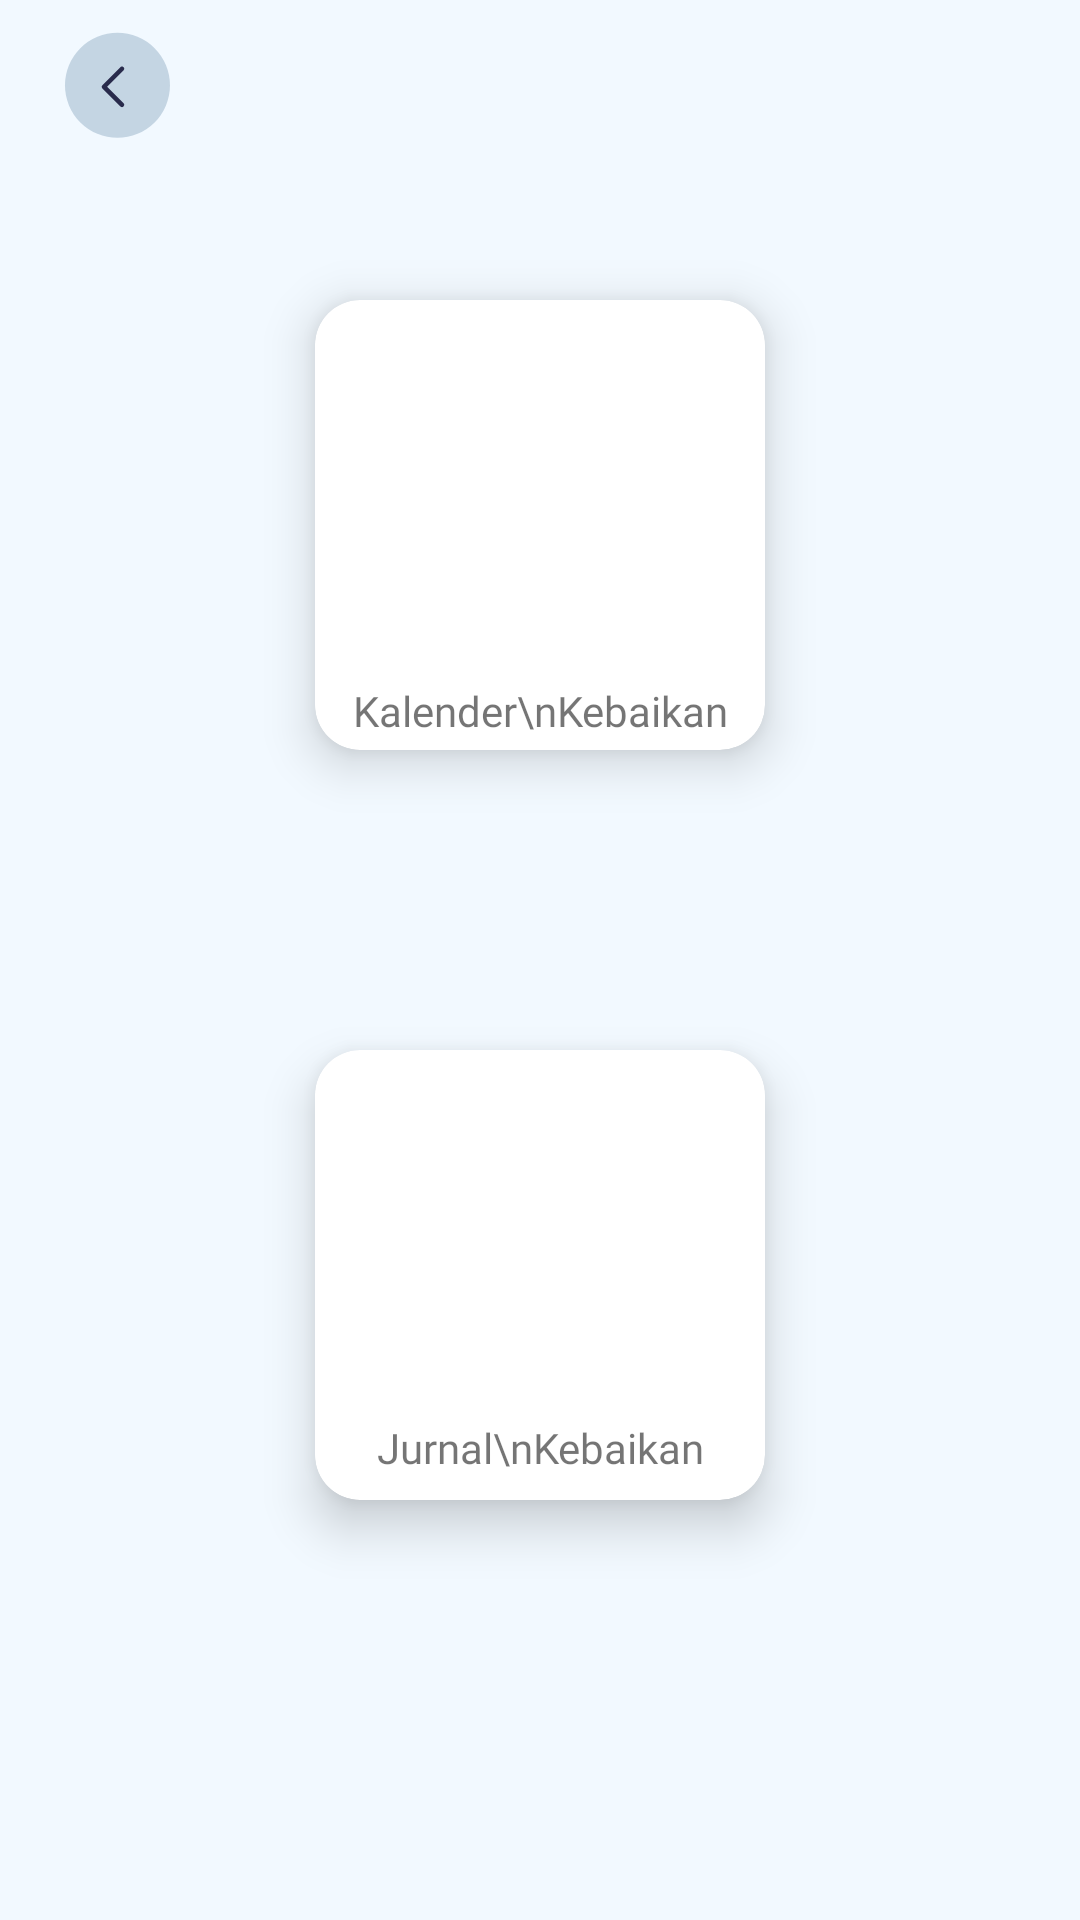

Point at icon controls on the screen. Image size 1080×1920, points as (x,y).
kembali: (117,85)
